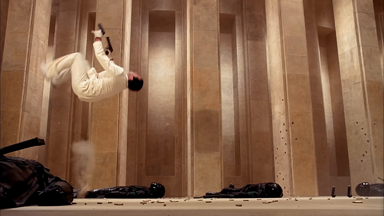firearm: (1, 135, 48, 154), (104, 34, 115, 56), (95, 20, 106, 37)
